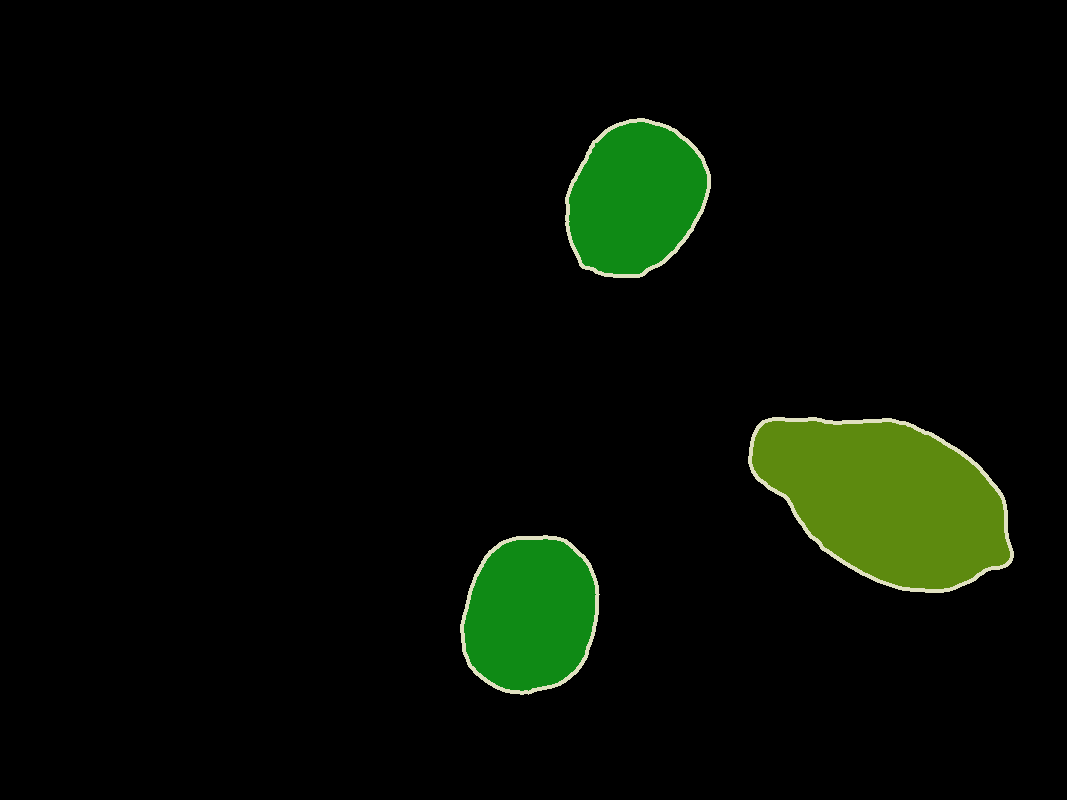kiwi: (569, 122, 706, 273), (464, 539, 595, 690)
lemon: (752, 421, 1009, 588)
